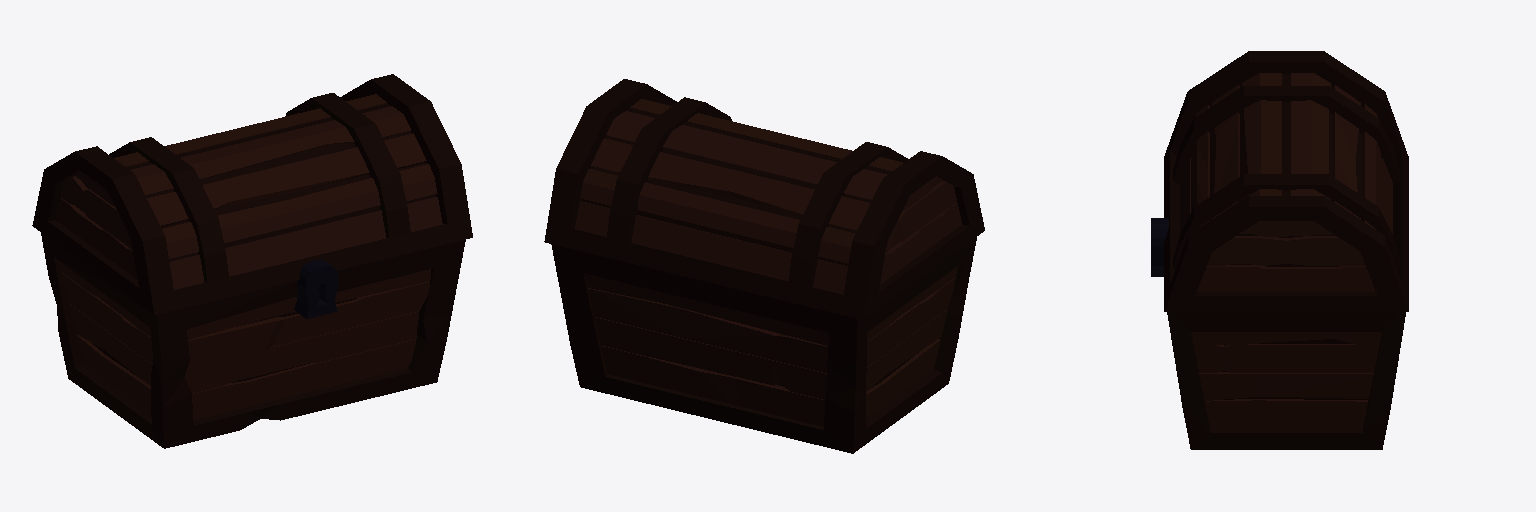
The model's file is Chest.obj.
The picture shows the model from 3 angles: view 1: azimuth 30°, elevation 25°; view 2: azimuth 150°, elevation 25°; view 3: azimuth 270°, elevation 25°; orthographic projection.
Parts seen in each view (by area): view 1: Chest.001; view 2: Chest.001; view 3: Chest.001.
Part boxes in pixels (bbox=[...]): Chest.001: bbox=[32, 74, 472, 448]; Chest.001: bbox=[544, 79, 984, 453]; Chest.001: bbox=[1151, 51, 1408, 449].
Bounding box in the file's own units: 1.18 × 0.8985 × 0.8238.